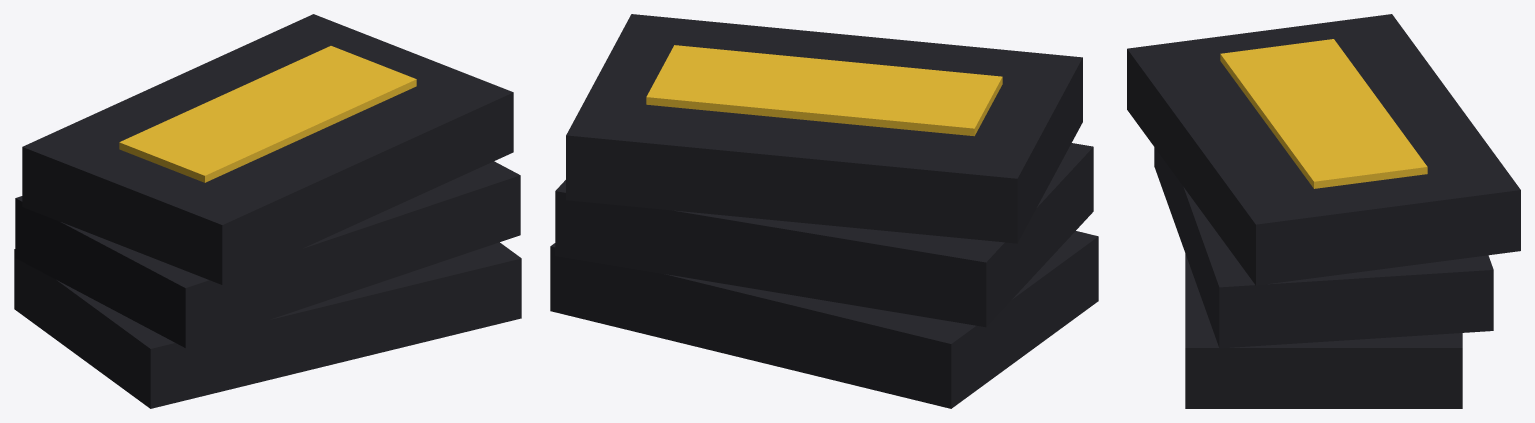
The model's file is karaoke_applause_tapes.glb.
3 renders of one model, left to right at view 1: azimuth 30°, elevation 25°; view 2: azimuth 150°, elevation 25°; view 3: azimuth 270°, elevation 25°, orthographic. The views are drawn at different scales.
Parts seen in each view (by area): view 1: tape_tape_black (×3), label_tape_label; view 2: tape_tape_black (×3), label_tape_label; view 3: tape_tape_black (×3), label_tape_label.
Part boxes in pixels (left/top/right/bottom): tape_tape_black (×3): left=14, top=14, right=521, bottom=408; label_tape_label: left=119, top=46, right=416, bottom=182; tape_tape_black (×3): left=550, top=14, right=1098, bottom=408; label_tape_label: left=646, top=45, right=1002, bottom=136; tape_tape_black (×3): left=1127, top=14, right=1520, bottom=408; label_tape_label: left=1220, top=39, right=1427, bottom=188.
Bounding box in the file's own units: 0.1258 × 0.0575 × 0.0994.
